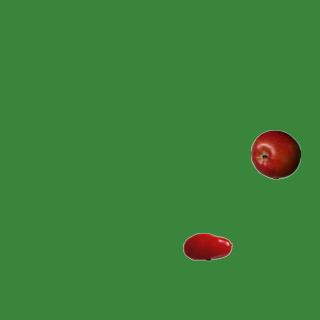Apple Braeburn: (250, 129, 300, 179)
Tomato 2: (182, 221, 232, 271)
